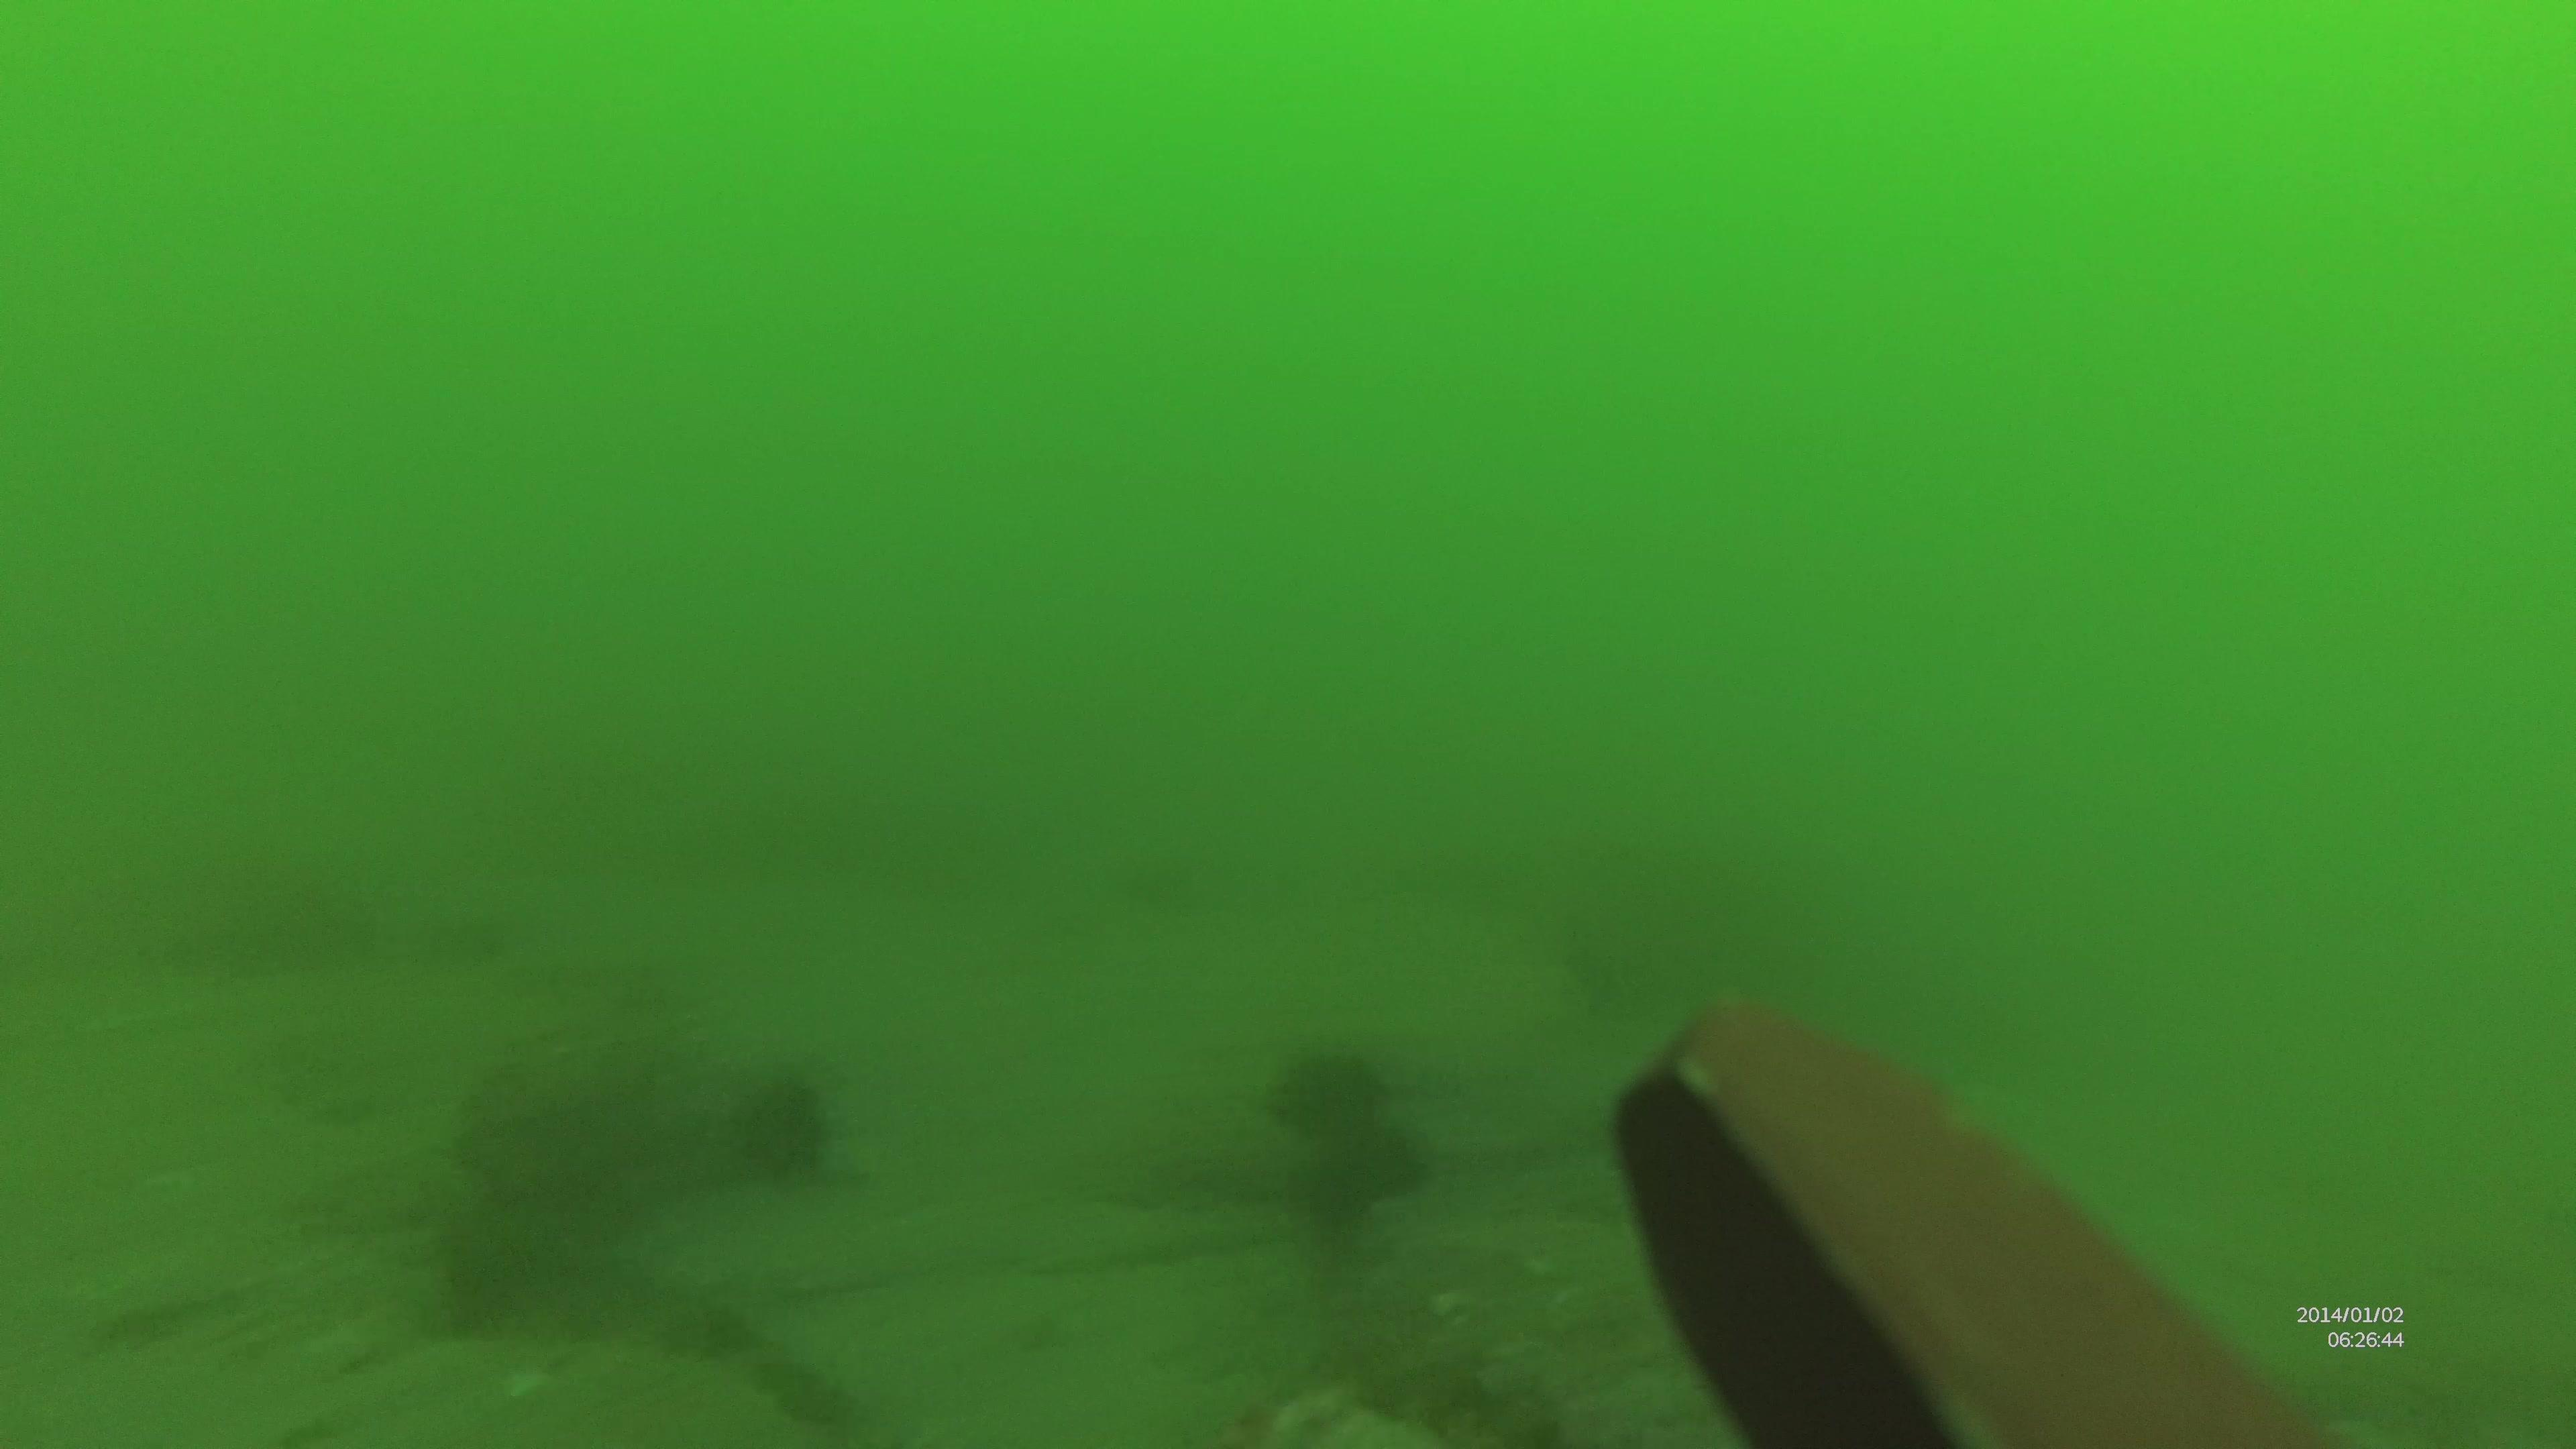echinus: (1260, 1051, 1396, 1136), (1299, 1120, 1426, 1205)
